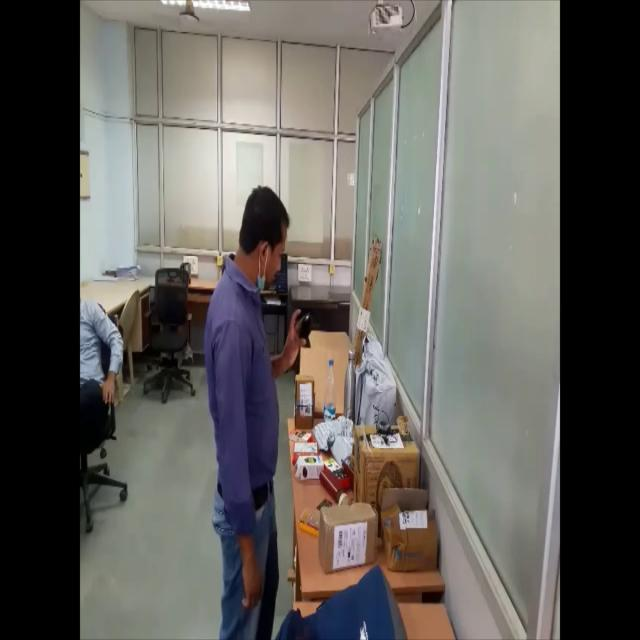normal: (202, 169, 314, 640)
